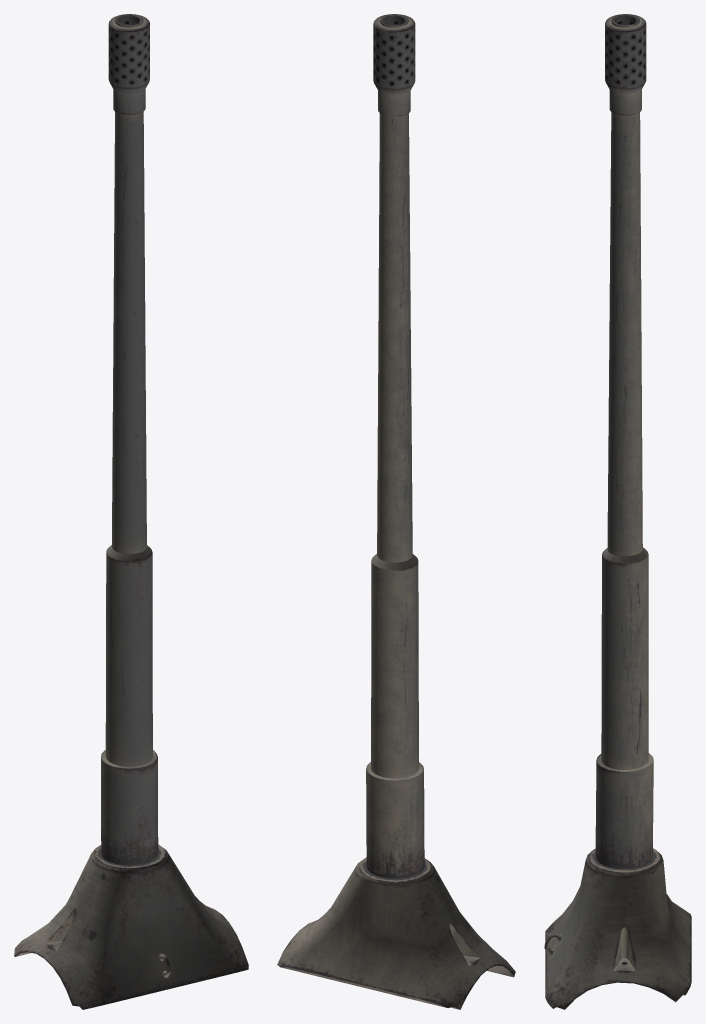
Rendered from Gun_02.glb.
3 views of the same model, side by side, from view 1: azimuth 30°, elevation 25°; view 2: azimuth 150°, elevation 25°; view 3: azimuth 270°, elevation 25° (orthographic).
Visible parts, largest first — view 1: set_0_group_0; view 2: set_0_group_0; view 3: set_0_group_0.
Boxes of the visible parts, x1,y1,x2,y2 form: set_0_group_0: [14, 14, 248, 1009]; set_0_group_0: [277, 14, 515, 1009]; set_0_group_0: [544, 14, 691, 1009].
Size of the model in its own units: 1.32 by 6.6 by 0.9273.
1 material, 1 textured.
